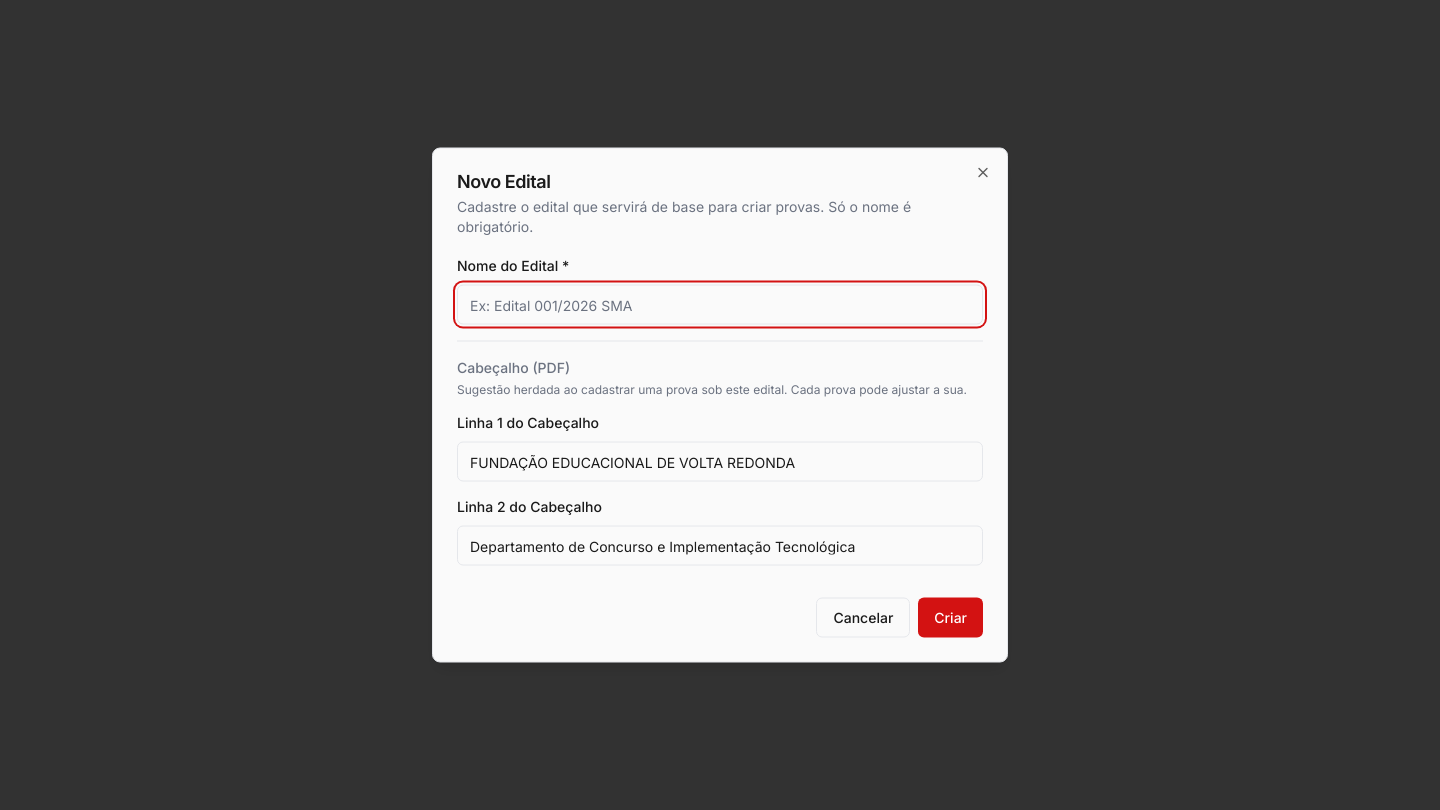
Test: EditalDialog (interação) › modo criação › bloqueia o envio sem nome e mostra a mensagem
Click the button "Criar": (951, 618) top-left (918, 598), bottom-right (983, 638)
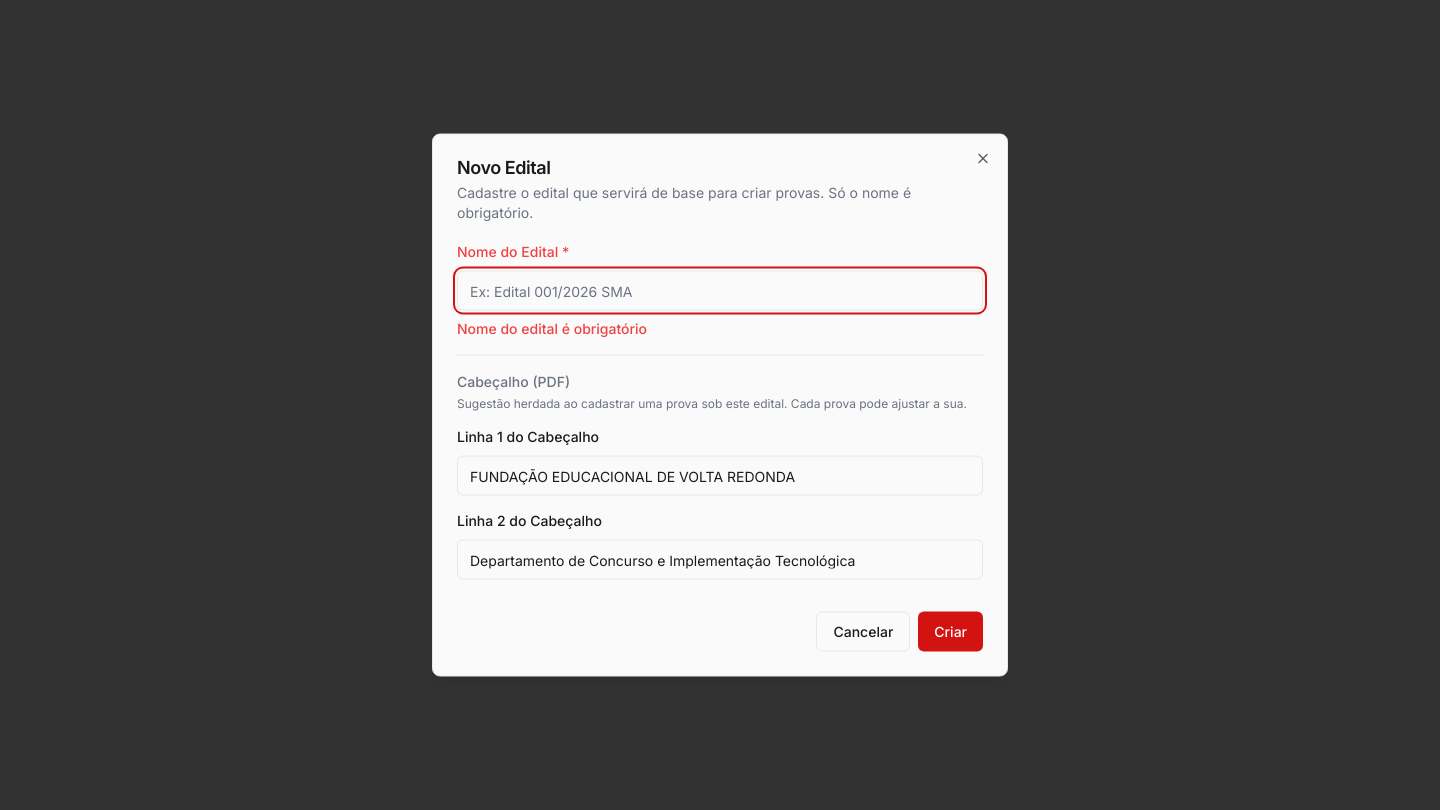
Expected: the text "Nome do edital é obrigatório" is shown, top-left (457, 320), bottom-right (647, 336)
